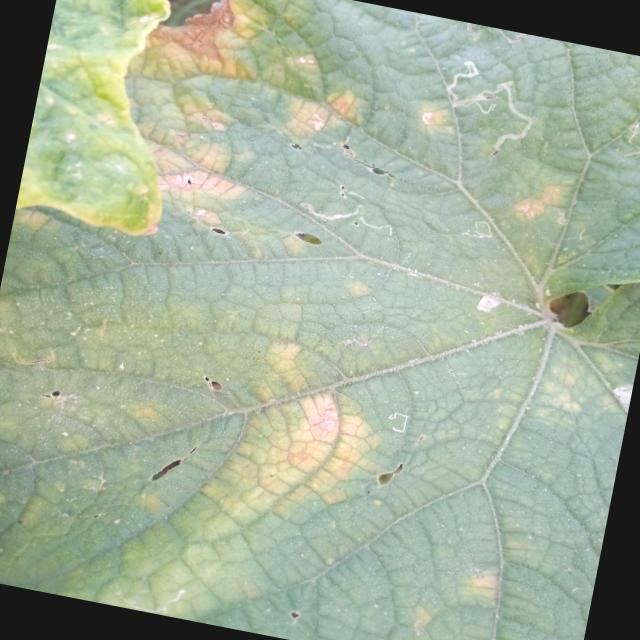cucumber_downy: (112, 0, 406, 316), (195, 336, 424, 608), (385, 72, 611, 272), (369, 504, 557, 640)
